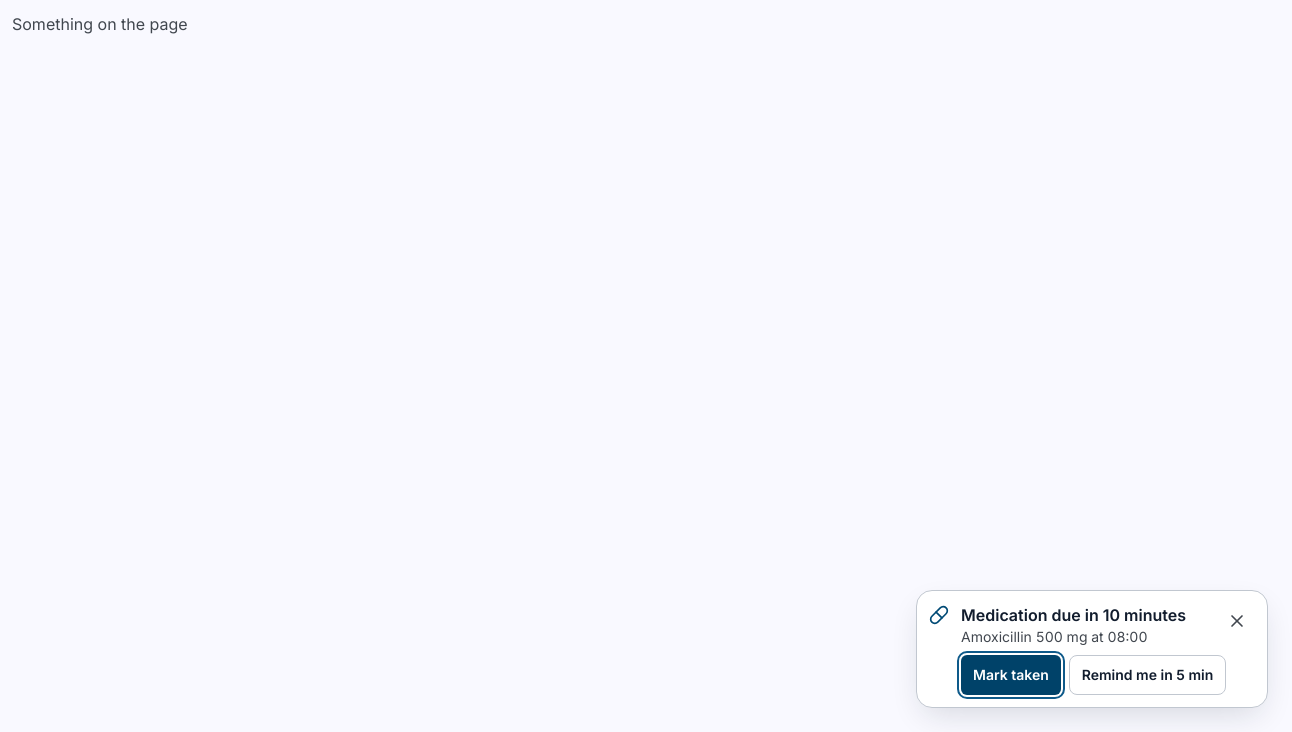
Test case: the reminder card › leaves focus where the patient moved it, when a dose marked taken leaves later
Click the button with aria-label "Mark taken: Amoxicillin". click: (1011,675)
box: 961,655 -> 1061,695
Wait 61000 ms
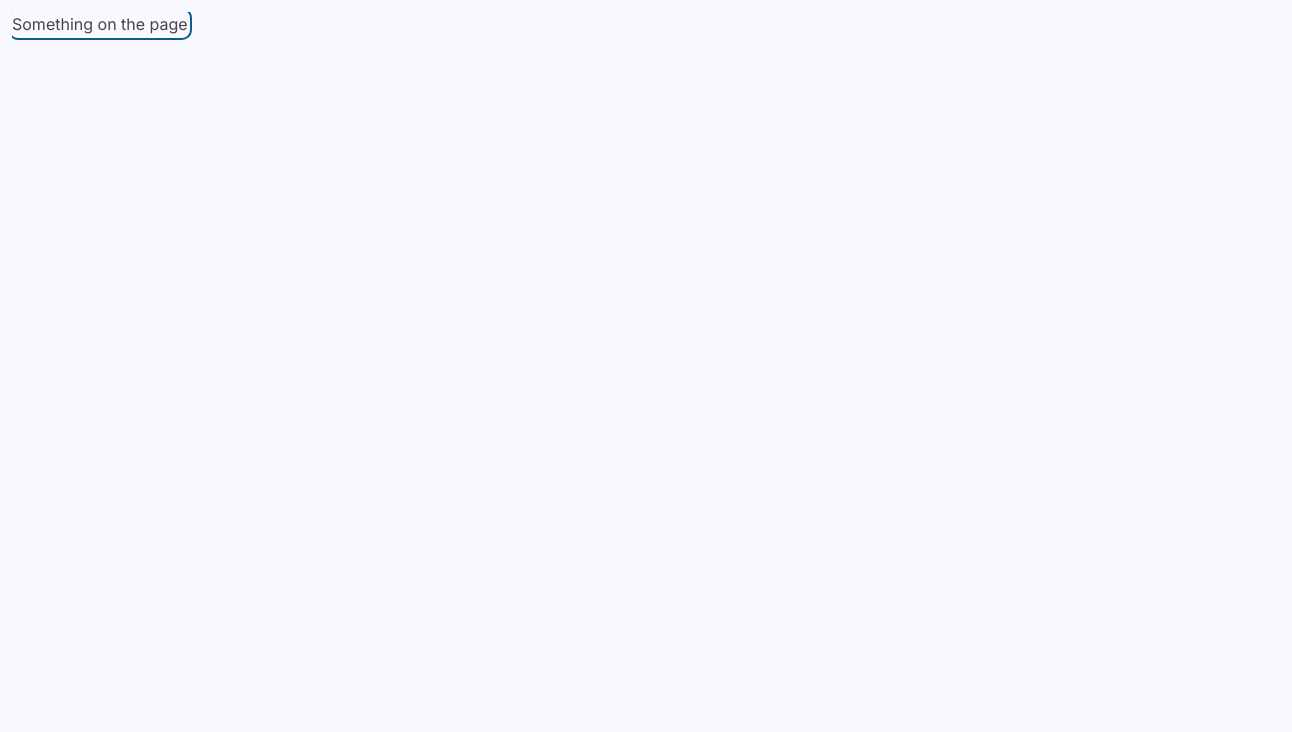
Result: the element "Reminders" is gone
